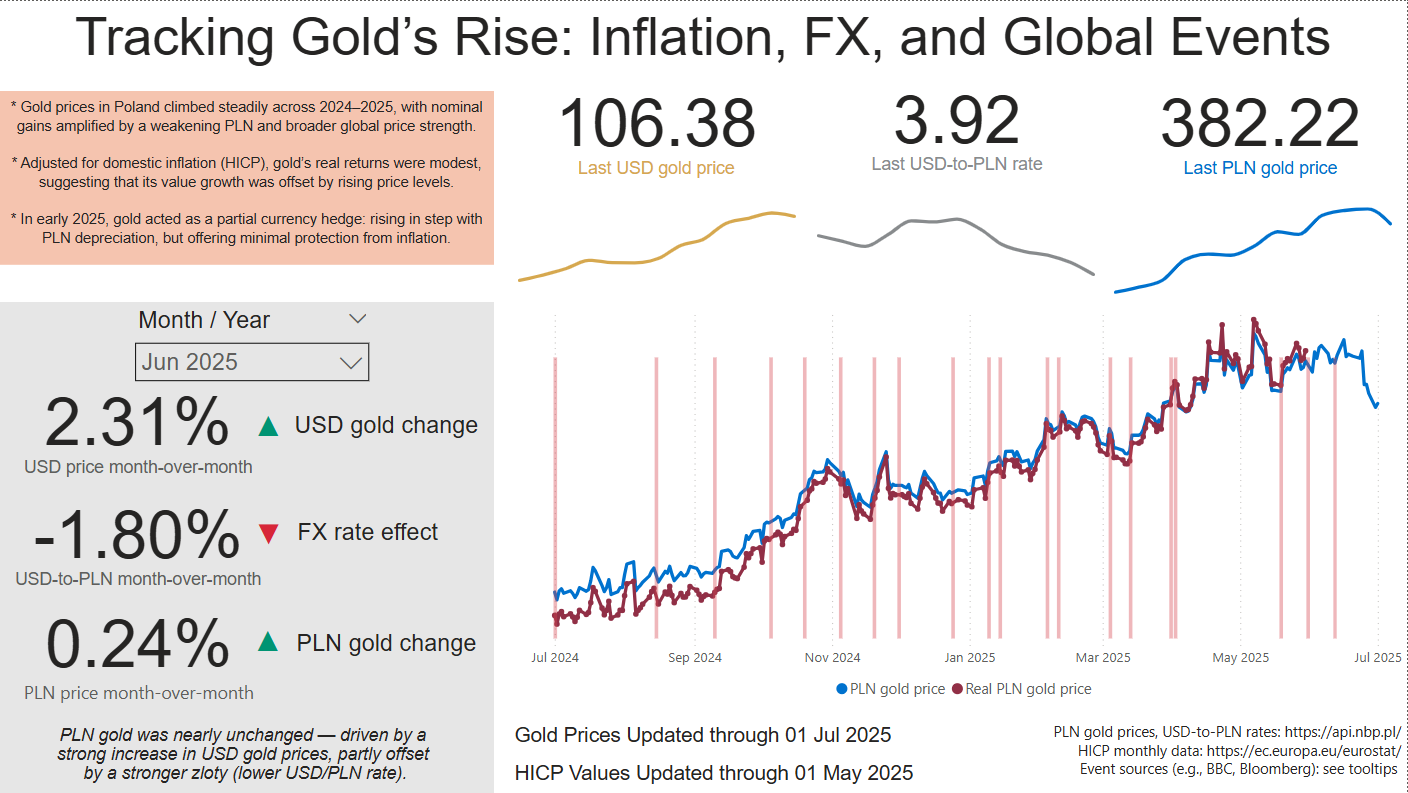

This screenshot's page, from the dashboard's own definition file:
{"tool":"powerbi","page":{"name":"Report","canvas":[1280,720],"ordinal":0},"visuals":[{"type":"shape","box":[0,273.3,450,446.7],"z":0},{"type":"lineChart","fields":{"Y":["Avg(GoldVsCurrency.GoldPricePln)"],"Y2":["~Measures.RealGoldPricePln_2"],"Category":["~Calendar.Date"]},"box":[477.8,271.1,802.2,373.3],"z":1000},{"type":"clusteredColumnChart","fields":{"Category":["~Calendar.Date"],"Y":["~Measures.SameHeightEvent"]},"box":[498.9,310,722.2,275.6],"z":2000},{"type":"card","fields":{"Values":["~Measures.LatestGoldPricePLN"]},"box":[1045,54.3,202.5,119.8],"z":3000},{"type":"card","fields":{"Values":["~Measures.LatestGoldPriceUSD"]},"box":[488.4,54.4,218.9,120],"z":4000},{"type":"card","fields":{"Values":["~Measures.GoldDataTitle"]},"box":[461.1,651.1,357.8,34.4],"z":5000},{"type":"card","fields":{"Values":["~Measures.HICPDataTitle"]},"box":[461.1,685.6,377.8,34.4],"z":6000},{"type":"card","fields":{"Values":["~Measures.GoldPricePln_MoM2"]},"box":[15.5,536.2,223.1,107.4],"z":7000},{"type":"card","fields":{"Values":["~Measures.GoldPriceUsd_MoM"]},"box":[8.3,332.7,236.6,107.4],"z":8000},{"type":"card","fields":{"Values":["~Measures.UsdToPlnRate_MoM"]},"box":[8.3,436,236.6,104.3],"z":9000},{"type":"slicer","fields":{"Values":["~Calendar.MonthYear"]},"box":[113.3,273.3,233.3,75.6],"z":10000},{"type":"textbox","box":[0,82.2,450,157.8],"z":11000},{"type":"textbox","box":[263.4,368.8,195.3,37.2],"z":12000},{"type":"textbox","box":[266.5,465.9,182.9,41.3],"z":13000},{"type":"textbox","box":[265.5,567.2,183.9,37.2],"z":14000},{"type":"card","fields":{"Values":["~Measures.GoldPricePln_MoM_Triangle"]},"box":[223.1,563,43.4,37.2],"z":15000},{"type":"card","fields":{"Values":["~Measures.GoldPriceUsd_MoM_Triangle"]},"box":[224.2,367.7,40.3,37.2],"z":16000},{"type":"card","fields":{"Values":["~Measures.UsdToPln_MoM_Triangle"]},"box":[224.2,463.3,41.3,41.3],"z":17000},{"type":"lineChart","fields":{"Category":["~Calendar.MonthStart"],"Y":["Avg(GoldVsCurrency.GoldPriceUsd)"]},"box":[458.2,174.1,280,99.2],"z":18000},{"type":"lineChart","fields":{"Category":["~Calendar.MonthStart"],"Y":["Avg(GoldVsCurrency.UsdToPlnRate)"]},"box":[729.9,174.1,280,99.2],"z":19000},{"type":"lineChart","fields":{"Category":["~Calendar.MonthStart"],"Y":["Avg(GoldVsCurrency.GoldPricePln)"]},"box":[999.6,174.1,280,99.2],"z":20000},{"type":"card","fields":{"Values":["Avg(GoldVsCurrency.UsdToPlnRate)"]},"box":[772.3,48.1,196.3,126],"z":21000},{"type":"card","fields":{"Values":["~Measures.GoldPriceNarrative"]},"box":[21.7,649.8,403.9,70.3],"z":22000},{"type":"textbox","box":[0,0,1280,72.2],"z":23000},{"type":"textbox","box":[860,650,420,70],"z":24000}]}

Visuals, with their boxes in screenshot pixels (x1, y1, x2, y2), scaled from the page's 1280x720 canvas onto the 1408x793 screenshot:
shape: left=0, top=301, right=495, bottom=792
lineChart - Avg(GoldVsCurrency.GoldPricePln) x ~Measures.RealGoldPricePln_2: left=526, top=299, right=1407, bottom=710
clusteredColumnChart - ~Calendar.Date x ~Measures.SameHeightEvent: left=549, top=341, right=1343, bottom=645
card - ~Measures.LatestGoldPricePLN: left=1150, top=60, right=1372, bottom=192
card - ~Measures.LatestGoldPriceUSD: left=537, top=60, right=778, bottom=192
card - ~Measures.GoldDataTitle: left=507, top=717, right=901, bottom=755
card - ~Measures.HICPDataTitle: left=507, top=755, right=923, bottom=792
card - ~Measures.GoldPricePln_MoM2: left=17, top=591, right=262, bottom=709
card - ~Measures.GoldPriceUsd_MoM: left=9, top=366, right=269, bottom=485
card - ~Measures.UsdToPlnRate_MoM: left=9, top=480, right=269, bottom=595
slicer - ~Calendar.MonthYear: left=125, top=301, right=381, bottom=384
textbox: left=0, top=91, right=495, bottom=264
textbox: left=290, top=406, right=505, bottom=447
textbox: left=293, top=513, right=494, bottom=559
textbox: left=292, top=625, right=494, bottom=666
card - ~Measures.GoldPricePln_MoM_Triangle: left=245, top=620, right=293, bottom=661
card - ~Measures.GoldPriceUsd_MoM_Triangle: left=247, top=405, right=291, bottom=446
card - ~Measures.UsdToPln_MoM_Triangle: left=247, top=510, right=292, bottom=556
lineChart - ~Calendar.MonthStart x Avg(GoldVsCurrency.GoldPriceUsd): left=504, top=192, right=812, bottom=301
lineChart - ~Calendar.MonthStart x Avg(GoldVsCurrency.UsdToPlnRate): left=803, top=192, right=1111, bottom=301
lineChart - ~Calendar.MonthStart x Avg(GoldVsCurrency.GoldPricePln): left=1100, top=192, right=1407, bottom=301
card - Avg(GoldVsCurrency.UsdToPlnRate): left=850, top=53, right=1065, bottom=192
card - ~Measures.GoldPriceNarrative: left=24, top=716, right=468, bottom=792
textbox: left=0, top=0, right=1407, bottom=80
textbox: left=946, top=716, right=1407, bottom=792
